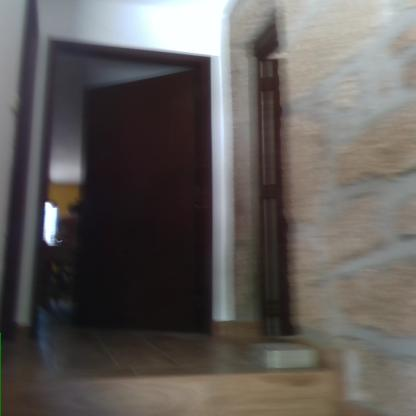semi: (26, 26, 236, 361)
